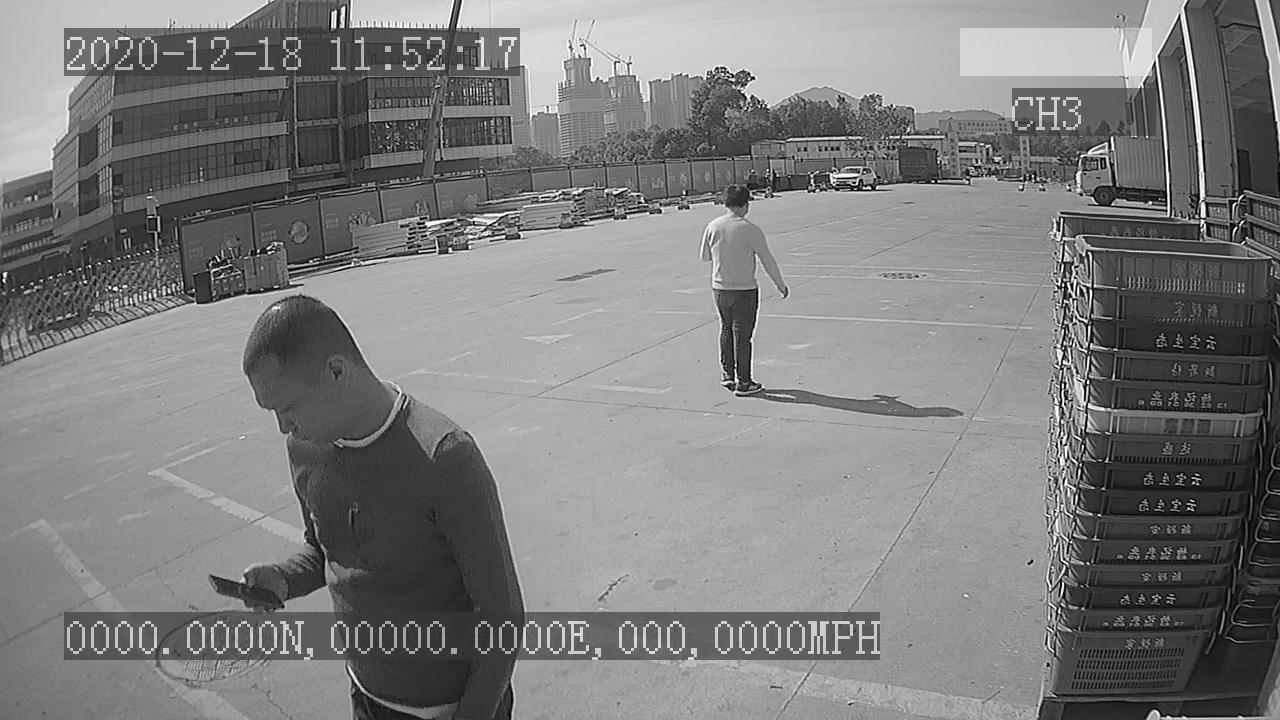person: (692, 183, 793, 401)
